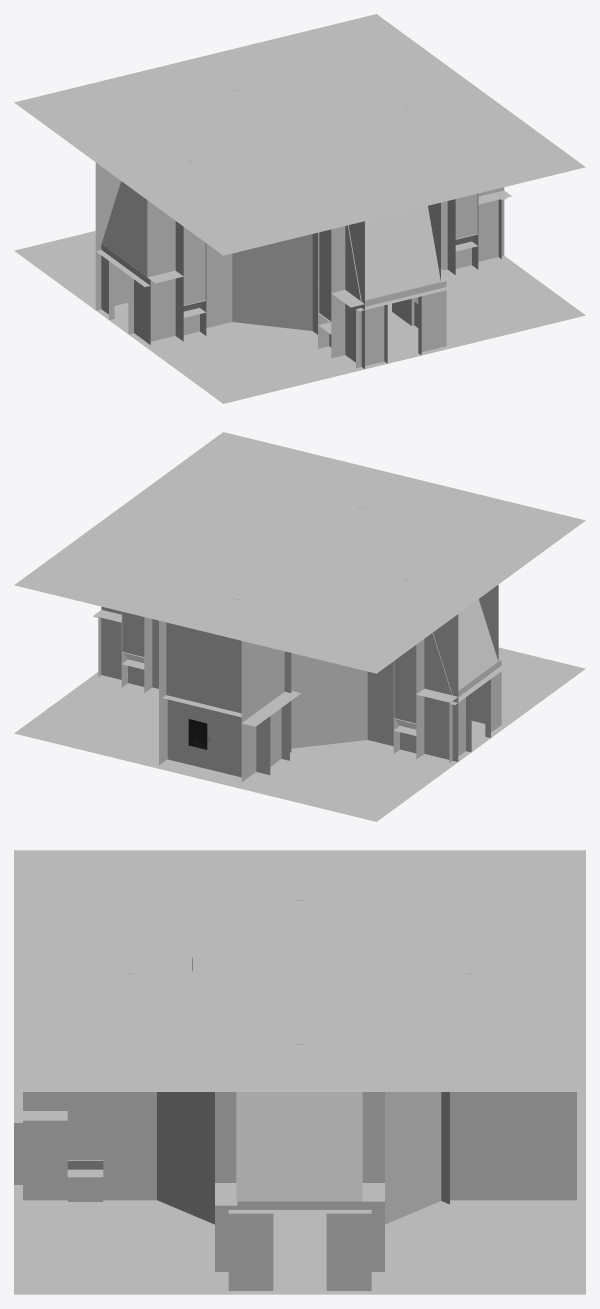
Rendered from room3_Lcz.fbx.
3 views of the same model, one above another, from view 1: azimuth 30°, elevation 25°; view 2: azimuth 150°, elevation 25°; view 3: azimuth 270°, elevation 25° (orthographic). The views are drawn at different scales.
Parts seen in each view (by area): view 1: room3_Lcz; view 2: room3_Lcz; view 3: room3_Lcz.
Boxes of the visible parts, left/top/right/bottom form: room3_Lcz: left=14, top=14, right=585, bottom=403; room3_Lcz: left=14, top=432, right=585, bottom=821; room3_Lcz: left=14, top=850, right=585, bottom=1294.
Bounding box in the file's own units: 20.48 × 8.55 × 20.48.
